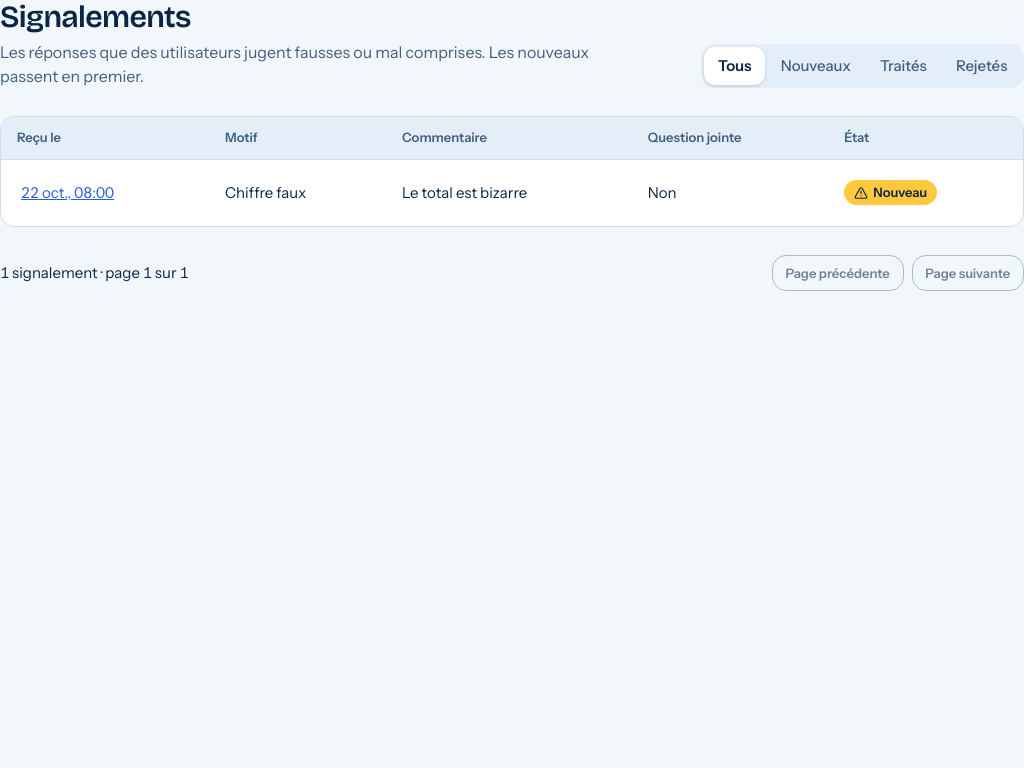
Test: Signalements › sans consentement : la question est remplacée par une phrase, la réponse et ses preuves sont lisibles
The image size is (1024, 768).
Step 1. Click the button with aria-label "Ouvrir le signalement" → (68, 193), box [17,171,118,215]
(page scrolled)
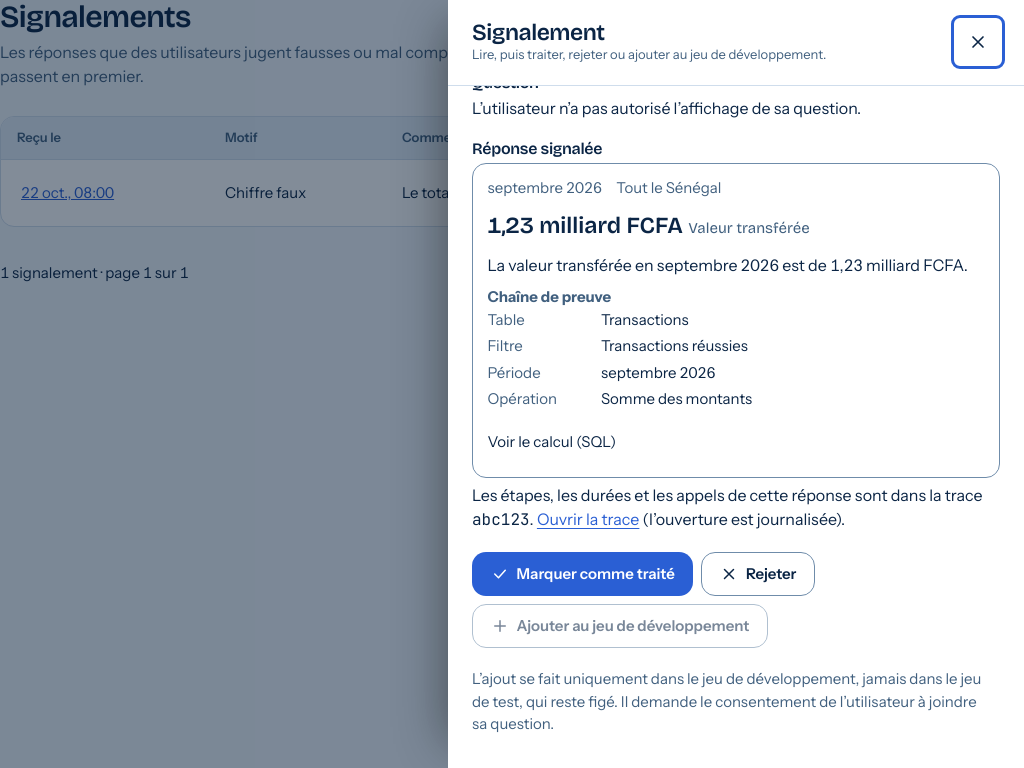
Expected: the text "L’utilisateur n’a pas autorisé l’affichage de sa question." is shown, [472,98,861,118]
Expected: the text "1,23 milliard FCFA" is shown, [487,212,683,239]
Expected: the text "septembre 2026" next to "Tout le Sénégal" is shown, [487,178,602,196]
Step 2. Click the heading "Voir le calcul (SQL)" → (552, 442), box [487,432,616,451]
(page scrolled)
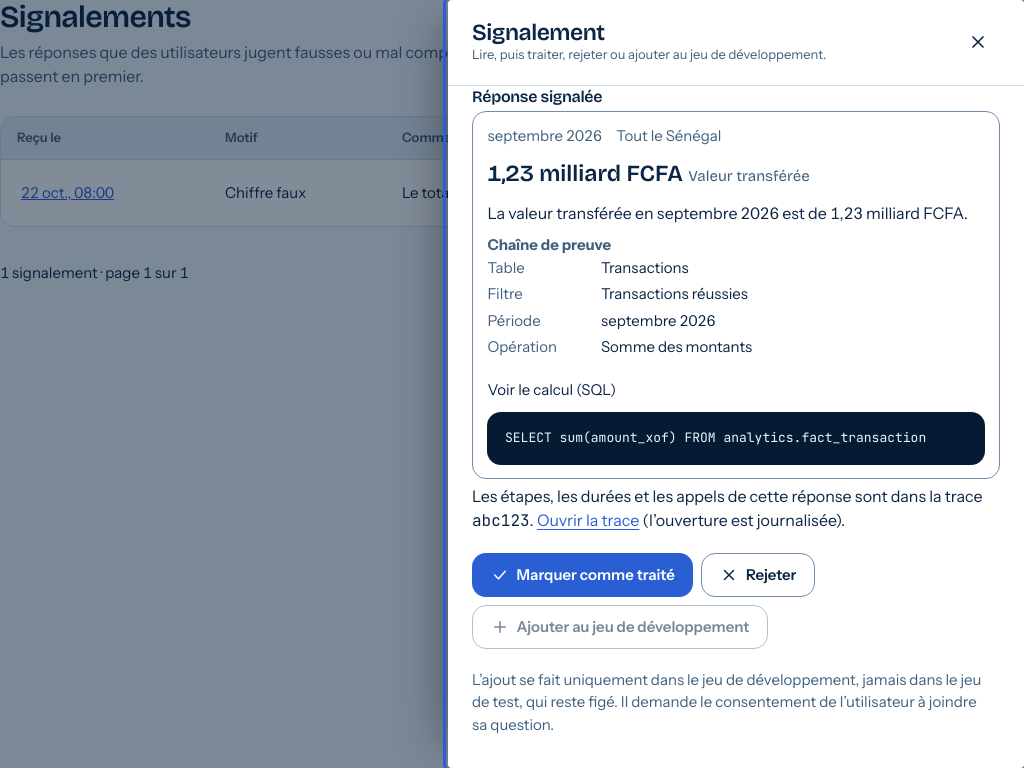
Expected: the button "Ajouter au jeu de développement" is disabled, [472,605,768,649]
Expected: the text "jamais dans le jeu de test" is shown, [472,670,981,711]
Expected: the text "SELECT sum(amount_xof) FROM analytics.fact_transaction" is shown, [505,429,926,446]
